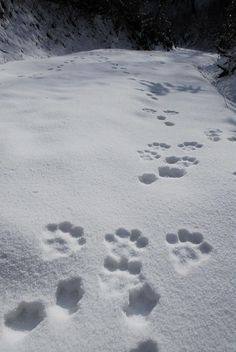cat: (161, 228, 214, 271), (37, 220, 88, 261), (101, 223, 151, 259), (136, 147, 162, 167), (173, 153, 200, 168), (177, 140, 206, 153)
